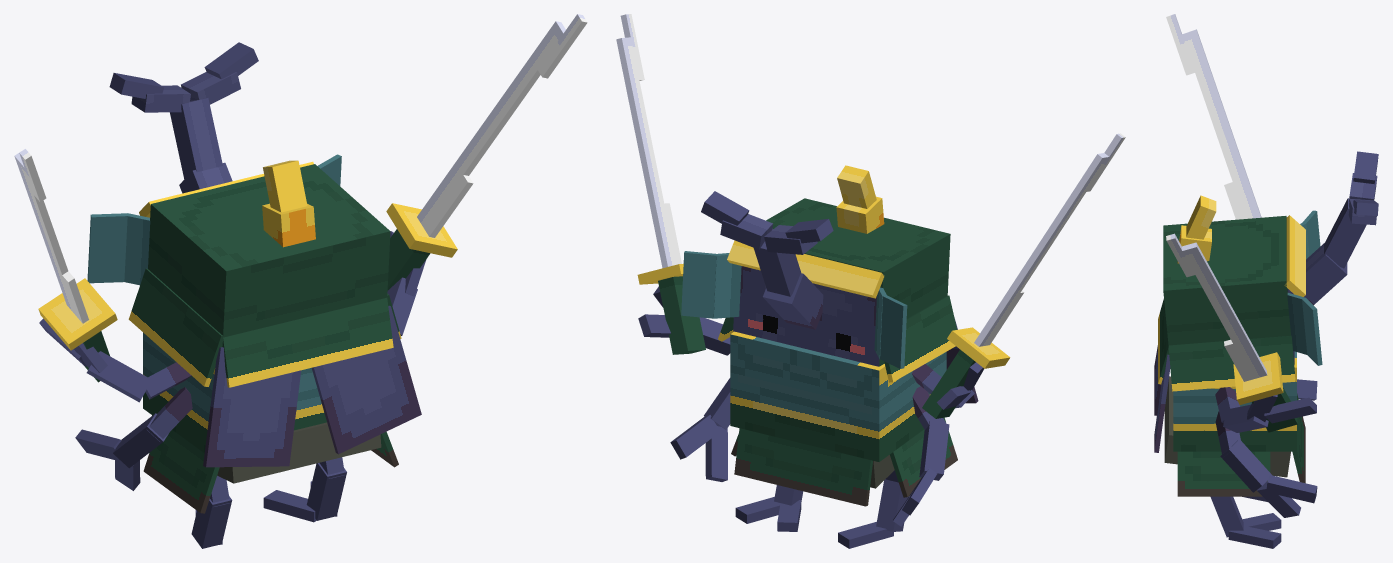
The model's file is Samuari.gltf.
The picture shows the model from 3 angles, left to right: view 1: azimuth 30°, elevation 25°; view 2: azimuth 150°, elevation 25°; view 3: azimuth 270°, elevation 25°; orthographic projection. The views are drawn at different scales.
Visible parts, largest first — view 1: cube (×34); view 2: cube (×32); view 3: cube (×41).
Boxes of the visible parts, <box> form: cube (×34): <box>14,14,587,548</box>; cube (×32): <box>616,37,1108,548</box>; cube (×41): <box>1154,14,1378,548</box>.
Size of the model in its own units: 2.15 by 1.73 by 0.9076.
Materials: 1 (1 with a texture image).
